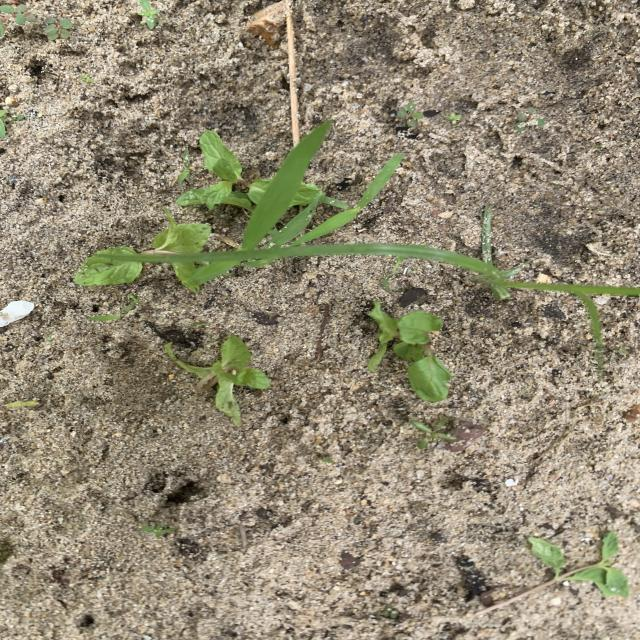crop: (465, 531, 630, 619), (74, 211, 211, 286), (164, 335, 270, 420), (368, 301, 451, 402), (176, 130, 269, 214), (173, 255, 199, 292), (295, 183, 321, 206)
weed: (315, 243, 640, 330), (287, 154, 404, 250), (243, 122, 330, 249), (185, 260, 275, 293), (0, 2, 73, 41), (410, 415, 485, 452), (136, 0, 177, 35), (395, 103, 431, 129), (270, 222, 300, 247), (89, 307, 137, 322), (294, 205, 314, 238), (2, 400, 42, 410), (444, 113, 462, 125), (0, 21, 7, 37), (471, 110, 477, 120)
